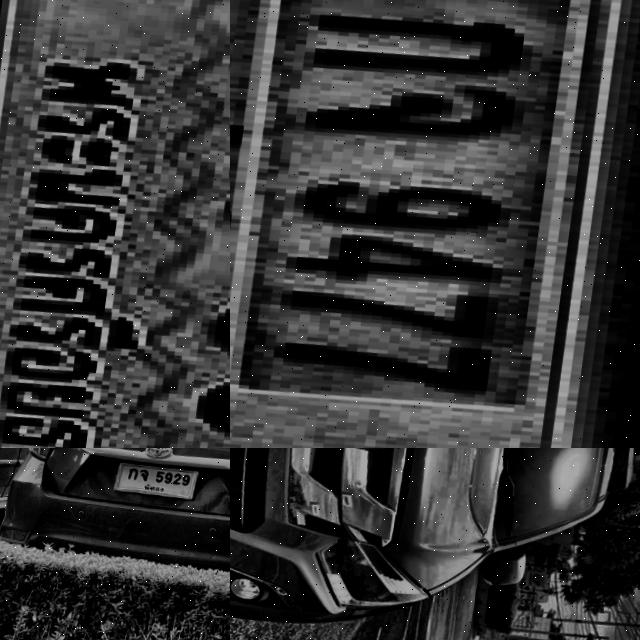license-plate: (230, 0, 640, 448), (0, 0, 230, 448)
